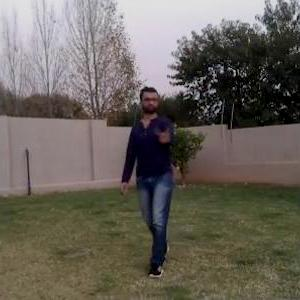takeoff-hand: (153, 119, 177, 146)
